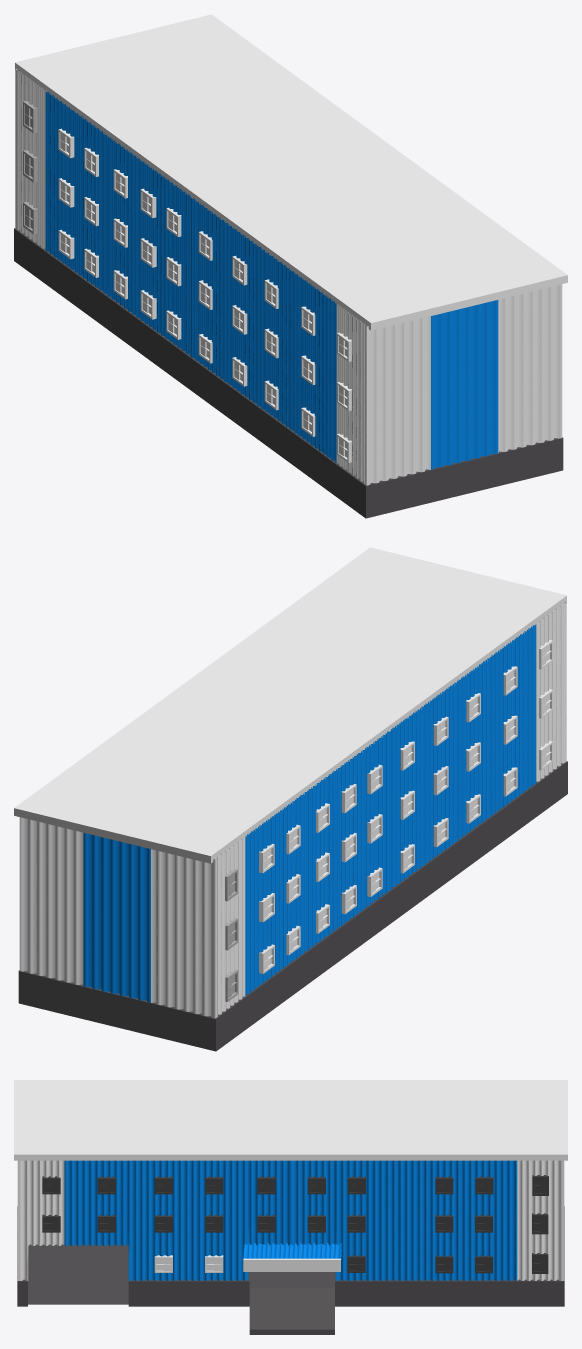
File: GTBuilding.glb
3 renders of one model, top to bottom at view 1: azimuth 30°, elevation 25°; view 2: azimuth 150°, elevation 25°; view 3: azimuth 270°, elevation 25°, orthographic. The views are drawn at different scales.
Visible parts, largest first — view 1: polySurface2, pCube5, pCube4; view 2: polySurface2, pCube5, pCube4; view 3: polySurface2, pCube5, pCube4, polySurface3, pCube6, polySurface27, polySurface17, polySurface28, polySurface41, polySurface18, polySurface5, polySurface11 (+18 smaller).
Boxes of the visible parts, <box> form: polySurface2: <box>15,69,562,485</box>; pCube5: <box>15,14,567,330</box>; pCube4: <box>14,228,563,518</box>; polySurface2: <box>19,602,566,1018</box>; pCube5: <box>14,547,566,863</box>; pCube4: <box>18,761,567,1051</box>; polySurface2: <box>17,1160,564,1280</box>; pCube5: <box>14,1080,567,1160</box>; pCube4: <box>17,1206,564,1334</box>; polySurface3: <box>243,1242,341,1268</box>; pCube6: <box>243,1258,340,1271</box>; polySurface27: <box>532,1213,548,1234</box>; polySurface17: <box>257,1176,275,1194</box>; polySurface28: <box>532,1175,548,1195</box>; polySurface41: <box>532,1253,548,1273</box>; polySurface18: <box>307,1176,325,1194</box>; polySurface5: <box>42,1176,60,1194</box>; polySurface11: <box>205,1176,223,1194</box>.
Bounding box in the file's own units: 1.08 × 0.7408 × 2.44.
